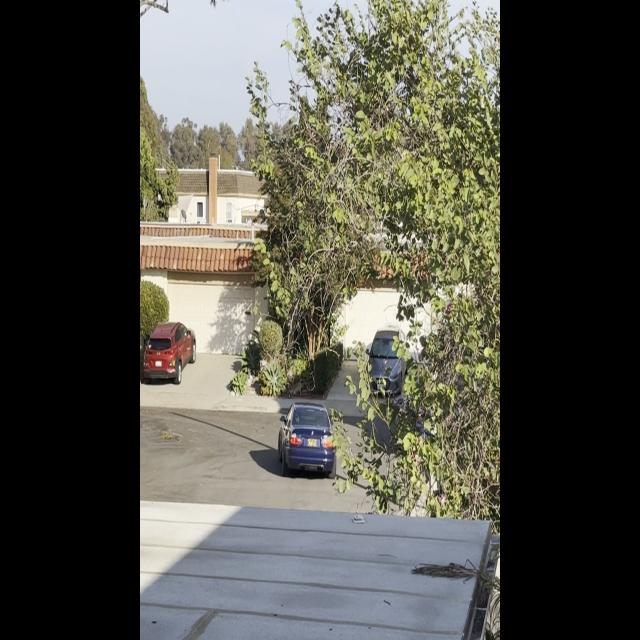Carbeetle: (268, 397, 340, 486)
Civilian: (140, 318, 199, 383), (363, 320, 409, 403)
